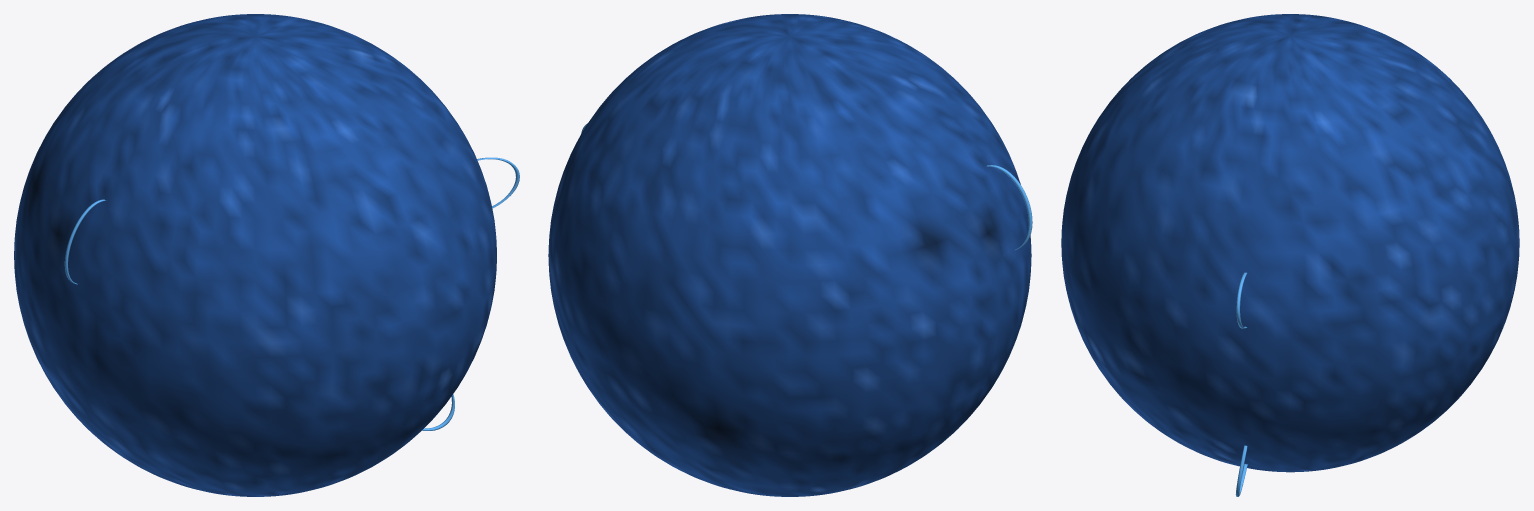
The model's file is Star_31.fbx.
3 renders of one model, left to right at view 1: azimuth 30°, elevation 25°; view 2: azimuth 150°, elevation 25°; view 3: azimuth 270°, elevation 25°, orthographic. The views are drawn at different scales.
Visible parts, largest first — view 1: Star_31; view 2: Star_31; view 3: Star_31.
Part boxes in pixels (x1=…): Star_31: x1=14, y1=14, x2=519, y2=496; Star_31: x1=548, y1=14, x2=1032, y2=496; Star_31: x1=1061, y1=14, x2=1519, y2=496.
Bounding box in the file's own units: 216 × 200 × 200.
